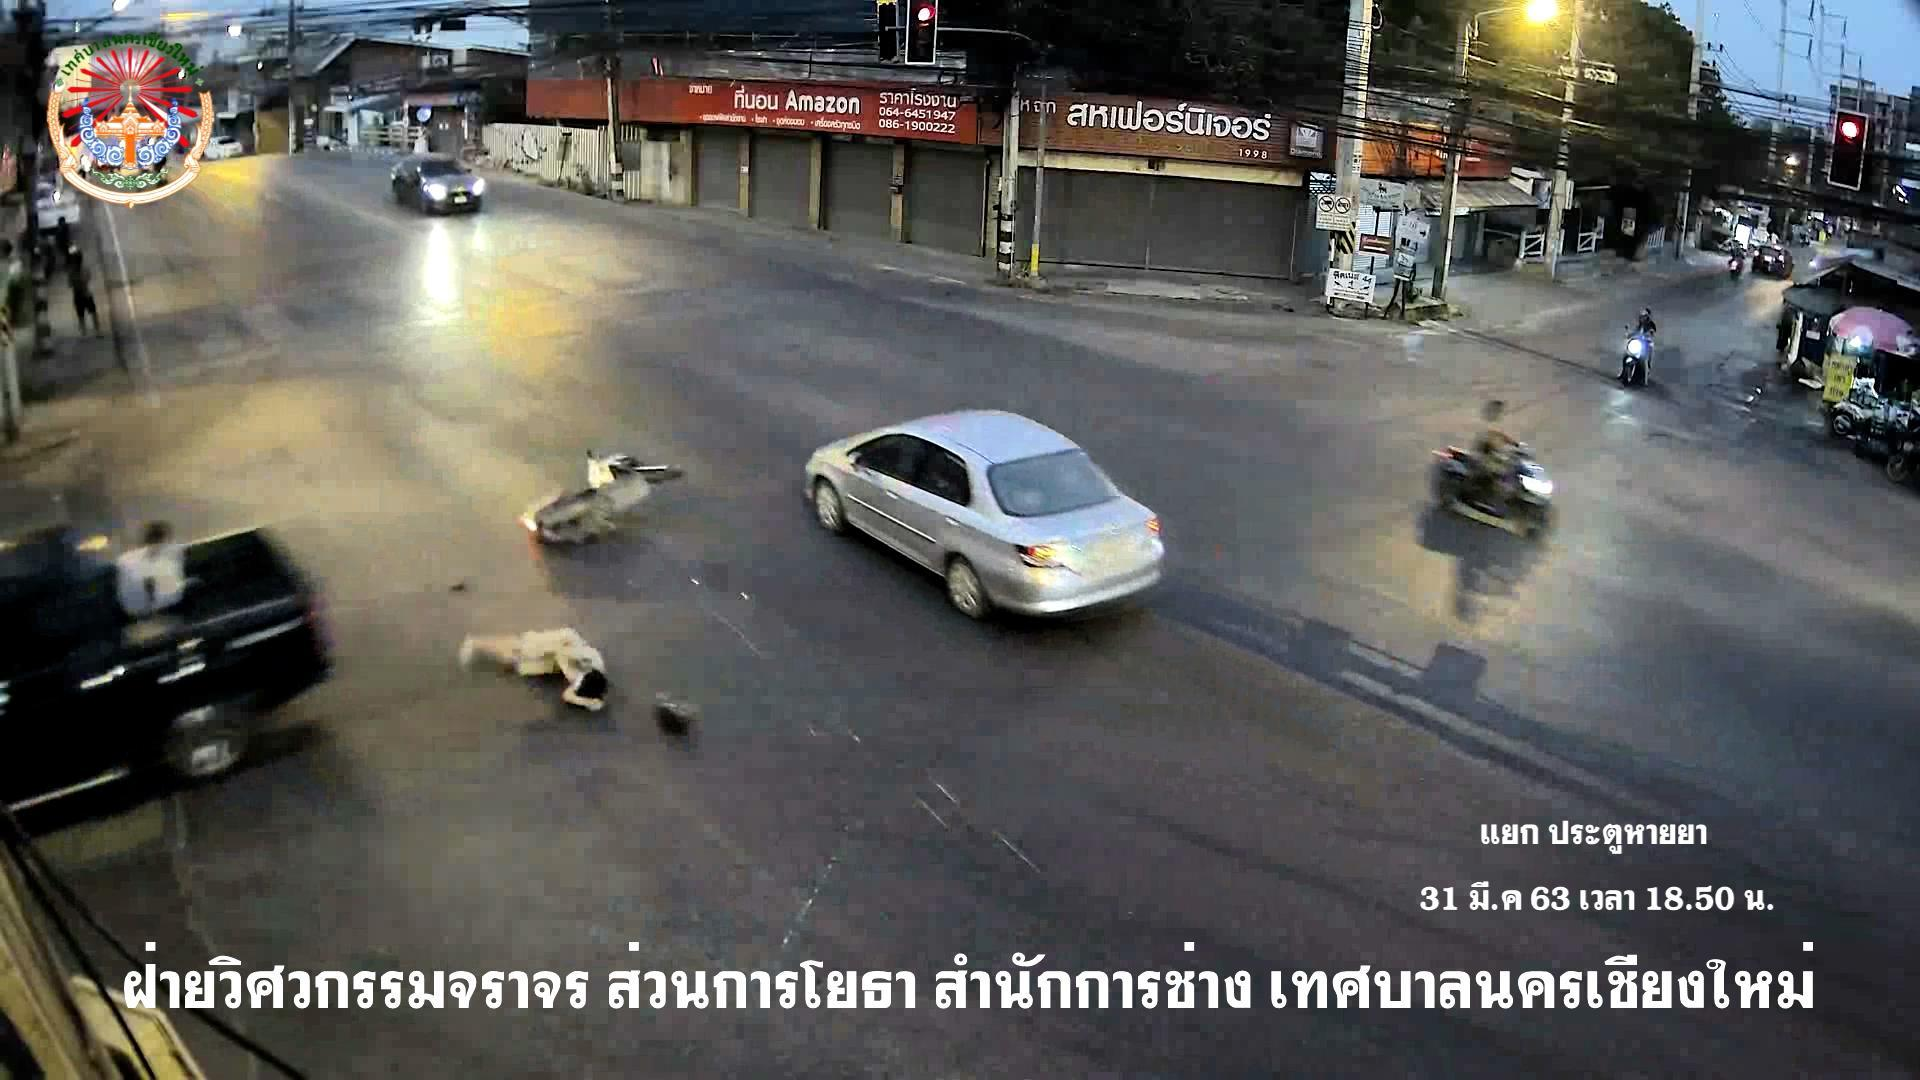accident: (454, 618, 632, 723)
